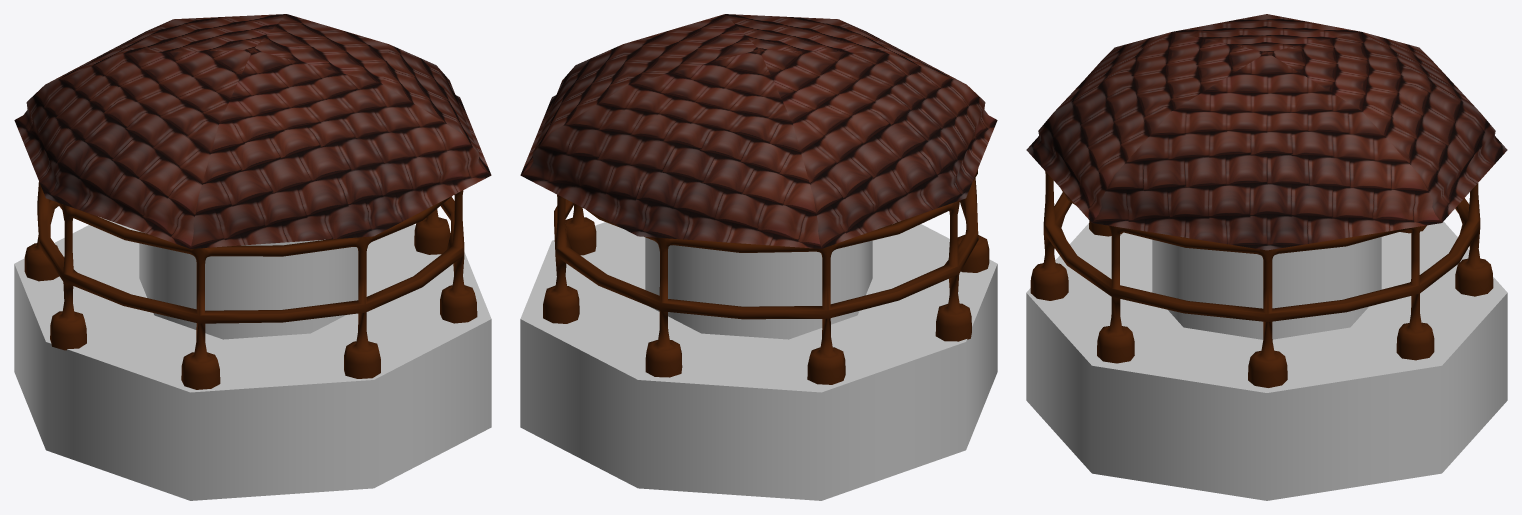
File: HouseKit.fbx_Roundhouse.fbx
3 renders of one model, left to right at view 1: azimuth 30°, elevation 25°; view 2: azimuth 150°, elevation 25°; view 3: azimuth 270°, elevation 25°, orthographic.
Parts seen in each view (by area): view 1: Roundhouse; view 2: Roundhouse; view 3: Roundhouse.
Part boxes in pixels (x1,y1,x2,y2): Roundhouse: (14, 14, 491, 500); Roundhouse: (520, 14, 997, 500); Roundhouse: (1026, 14, 1507, 500).
Bounding box in the file's own units: 5.54 × 5.61 × 4.47.
